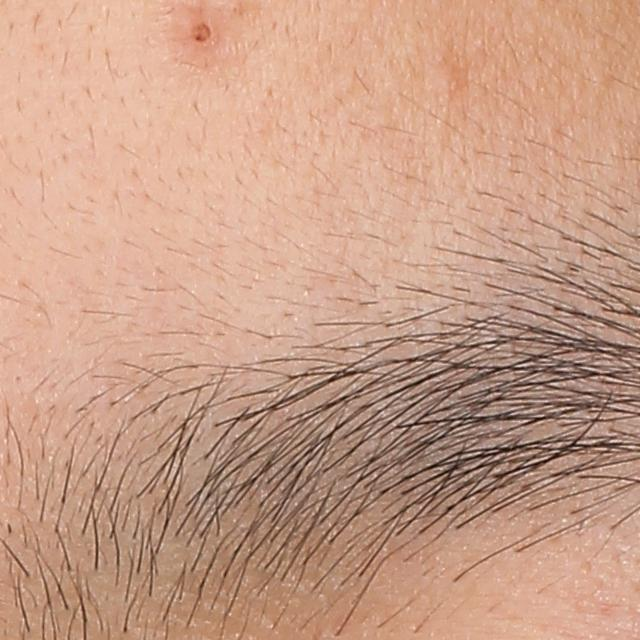comedo: (424, 64, 466, 99)
papule: (180, 8, 223, 55)
